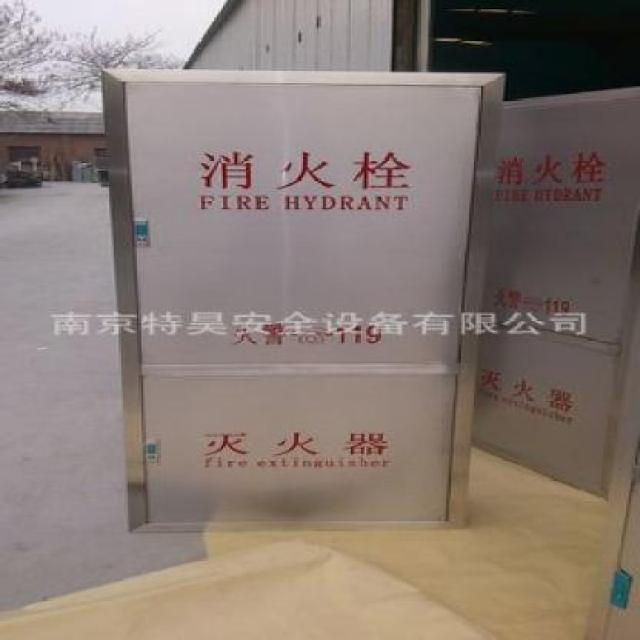firehydrant: (99, 65, 508, 537), (466, 83, 639, 504)
